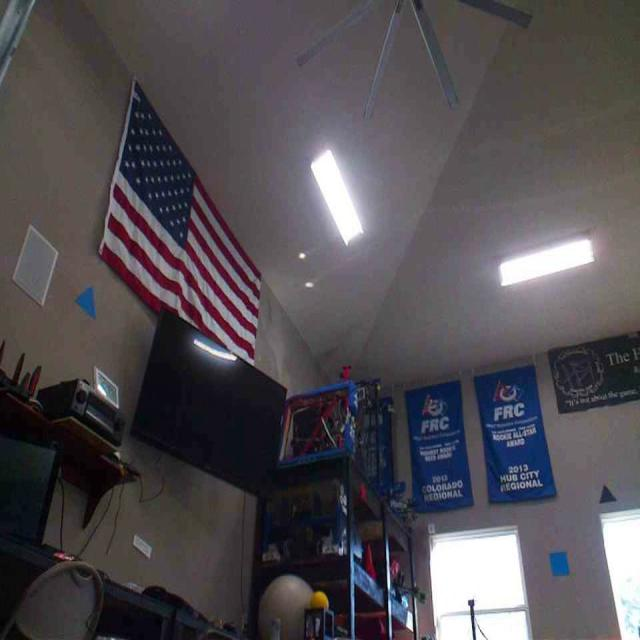square_blue: (546, 548, 570, 577)
triangle_black: (596, 482, 616, 504)
triangle_blue: (75, 281, 96, 319)
